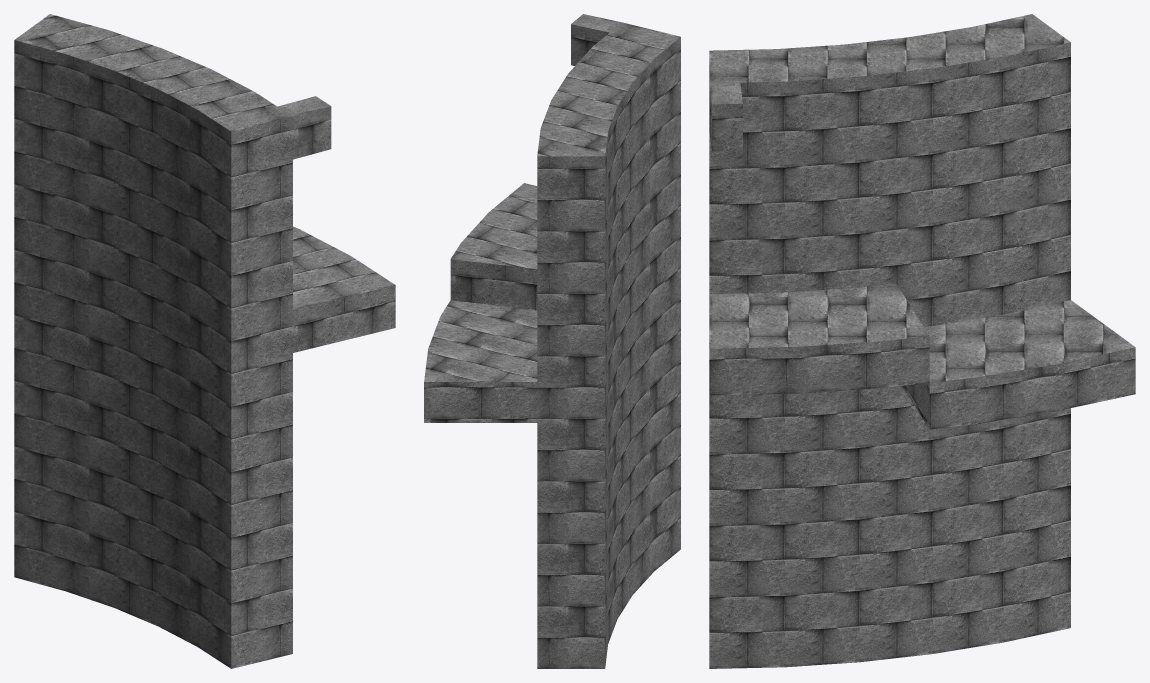
File: tile6.dae
3 renders of one model, left to right at view 1: azimuth 30°, elevation 25°; view 2: azimuth 150°, elevation 25°; view 3: azimuth 270°, elevation 25°, orthographic. The views are drawn at different scales.
Parts seen in each view (by area): view 1: SketchUp; view 2: SketchUp; view 3: SketchUp.
Boxes of the visible parts, x1,y1,x2,y2 form: SketchUp: [14, 14, 395, 668]; SketchUp: [424, 14, 680, 668]; SketchUp: [709, 14, 1135, 668].
Bounding box in the file's own units: 44.68 × 64.96 × 98.43.
1 material, 1 textured.
